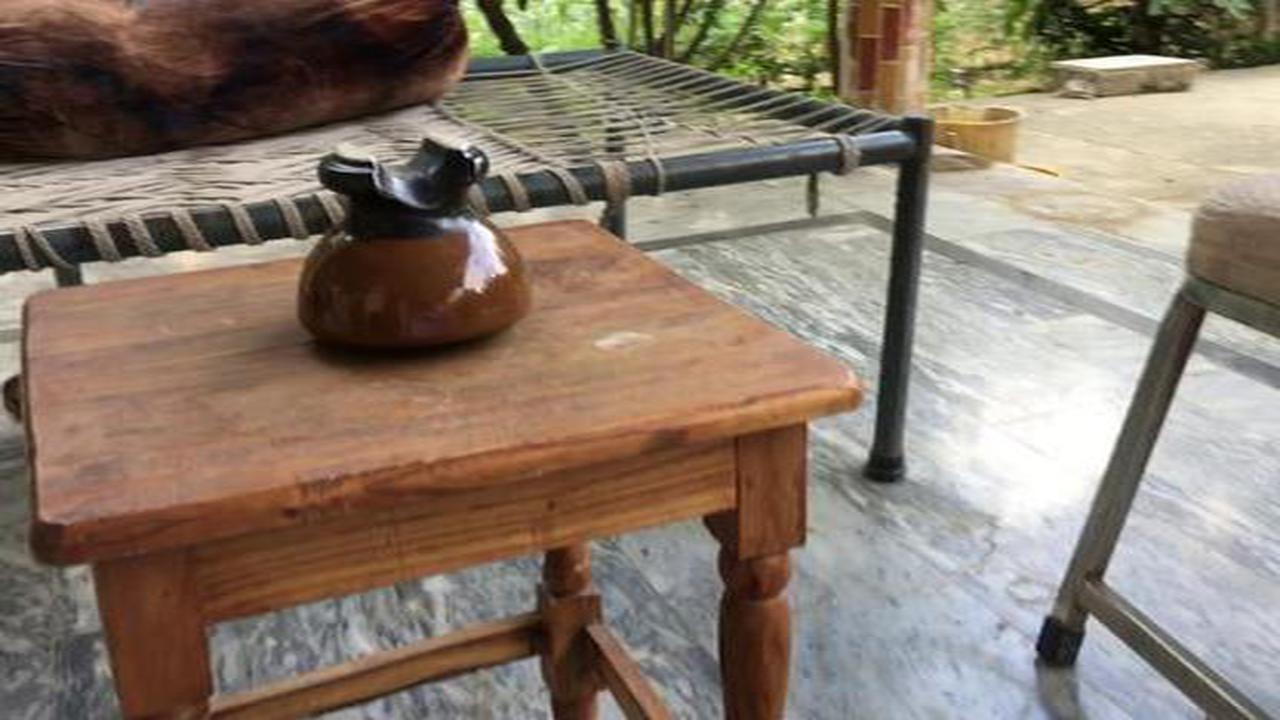insulator_pin: (268, 132, 545, 373)
